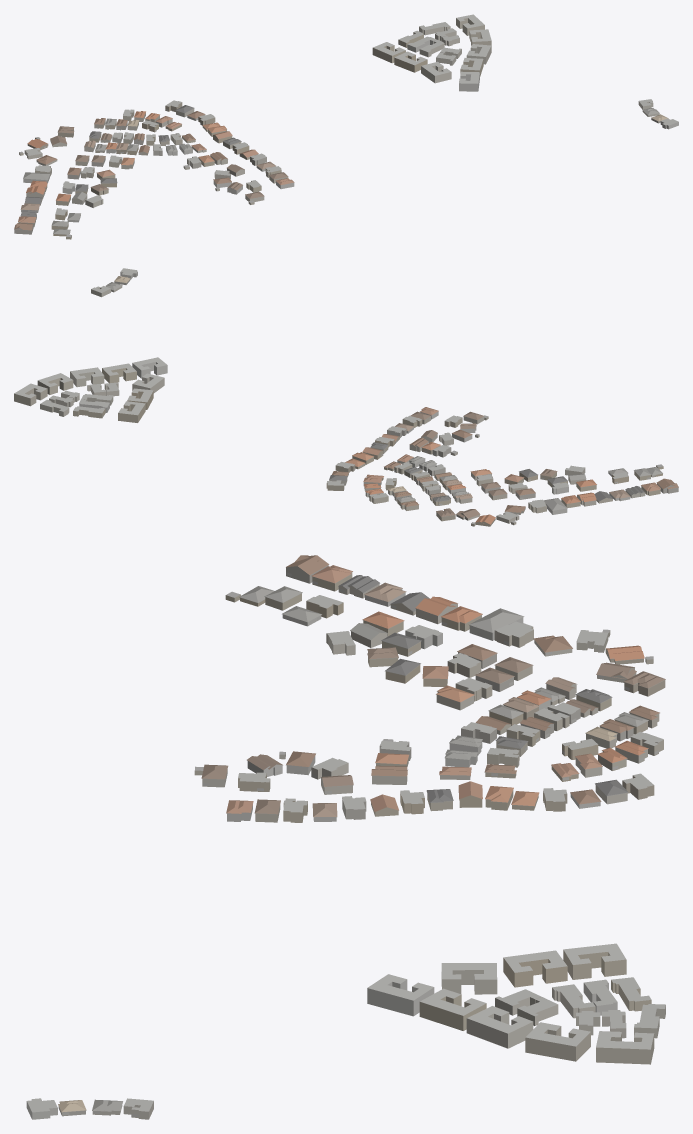
File: buildings_r5_c3.glb
The picture shows the model from 3 angles, top to bottom: view 1: azimuth 30°, elevation 25°; view 2: azimuth 150°, elevation 25°; view 3: azimuth 270°, elevation 25°; orthographic projection. The views are drawn at different scales.
Visible parts, largest first — view 1: buildings_r5_c3; view 2: buildings_r5_c3; view 3: buildings_r5_c3.
Part boxes in pixels (x1,y1,x2,y2): buildings_r5_c3: [14, 14, 678, 239]; buildings_r5_c3: [14, 268, 678, 526]; buildings_r5_c3: [26, 555, 665, 1119].
Bounding box in the file's own units: 987 × 39.9 × 457.
